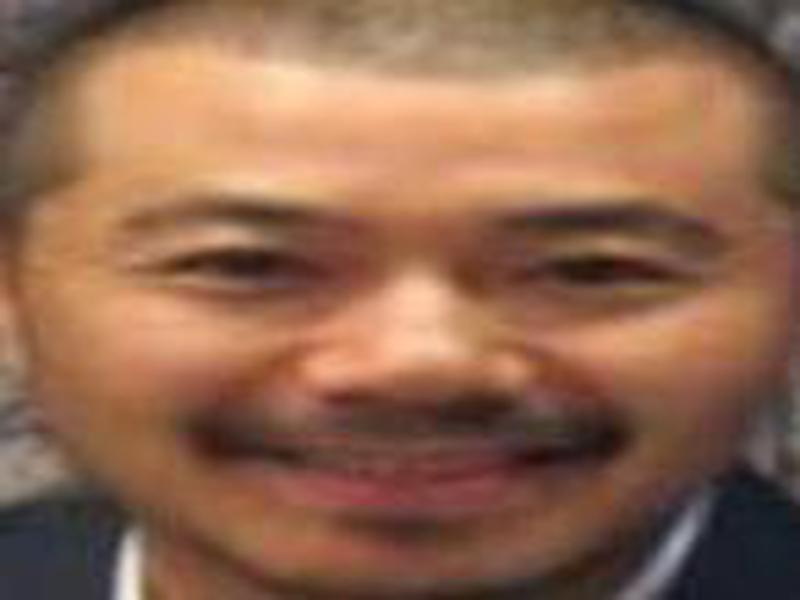without_mask: (31, 67, 765, 591)
